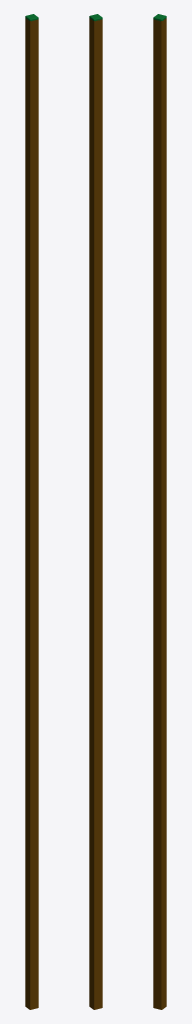
File: wall_1.glb
The picture shows the model from 3 angles, left to right: view 1: azimuth 30°, elevation 25°; view 2: azimuth 210°, elevation 25°; view 3: azimuth 330°, elevation 25°; orthographic projection.
Parts seen in each view (by area): view 1: Cube; view 2: Cube; view 3: Cube.
Part boxes in pixels (<box>): Cube: <box>25,14,38,1009</box>; Cube: <box>89,14,102,1009</box>; Cube: <box>153,14,166,1009</box>.
Size of the model in its own units: 4.71 by 504 by 4.71.
